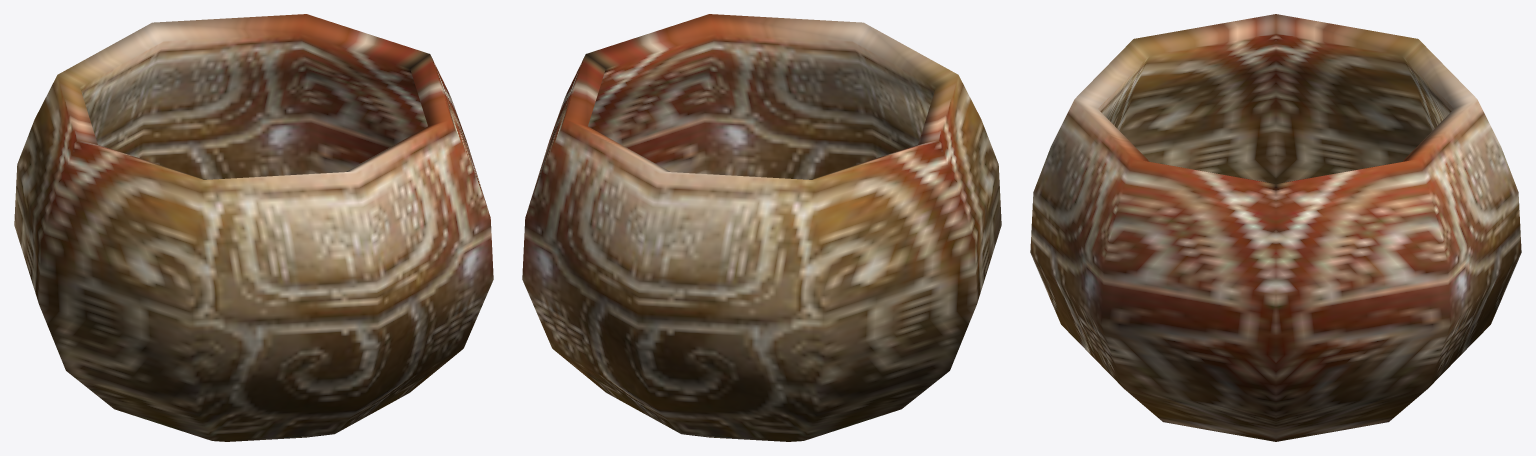
Rendered from PoteAzteca1.fbx.
The picture shows the model from 3 angles, left to right: view 1: azimuth 30°, elevation 25°; view 2: azimuth 150°, elevation 25°; view 3: azimuth 270°, elevation 25°; orthographic projection.
Visible parts, largest first — view 1: Cylinder.004; view 2: Cylinder.004; view 3: Cylinder.004.
Part boxes in pixels (x1,y1,x2,y2): Cylinder.004: [14, 14, 493, 441]; Cylinder.004: [522, 14, 1001, 441]; Cylinder.004: [1030, 14, 1521, 441].
Bounding box in the file's own units: 371 × 259 × 371.
Materials: 1 (1 with a texture image).
